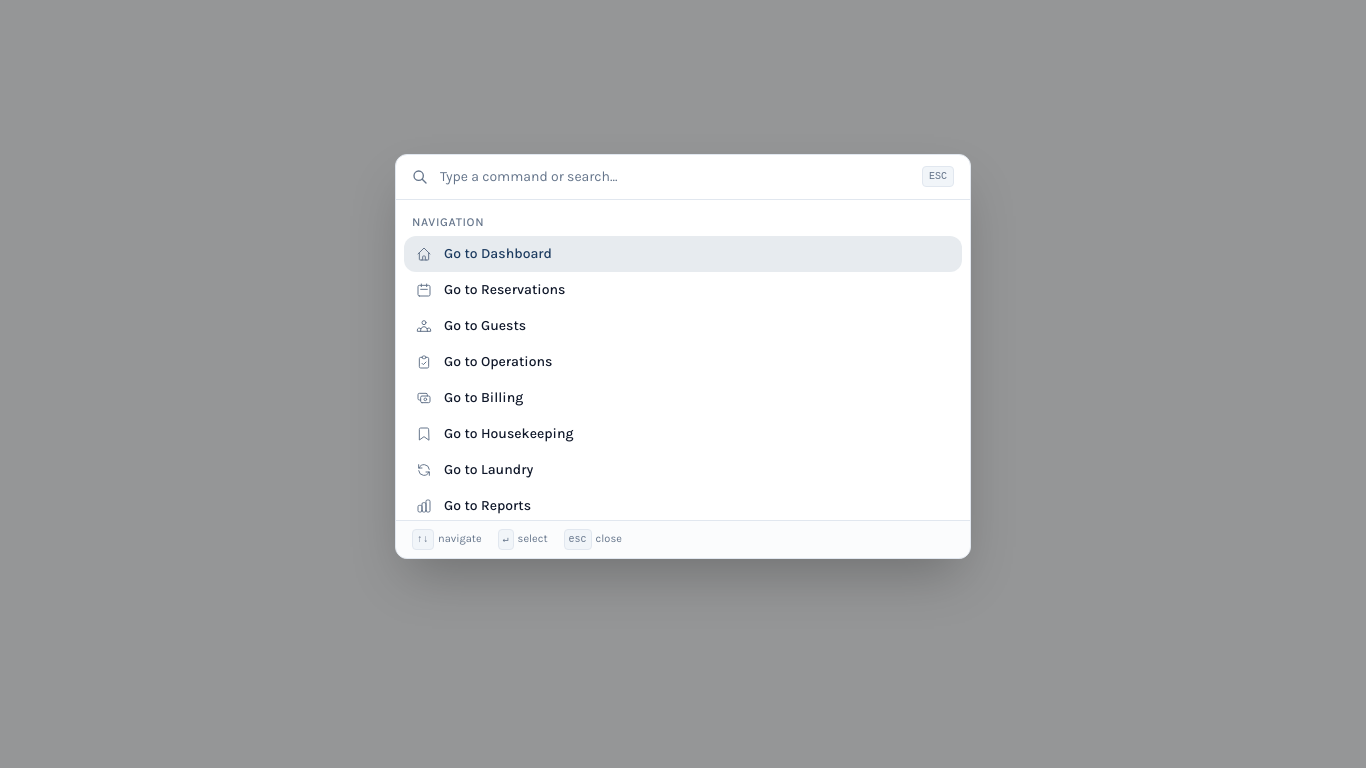
CommandPalette › filters by description text
In the field named "Search commands": [675, 177] box [440,155,910,199], type "walk-in"
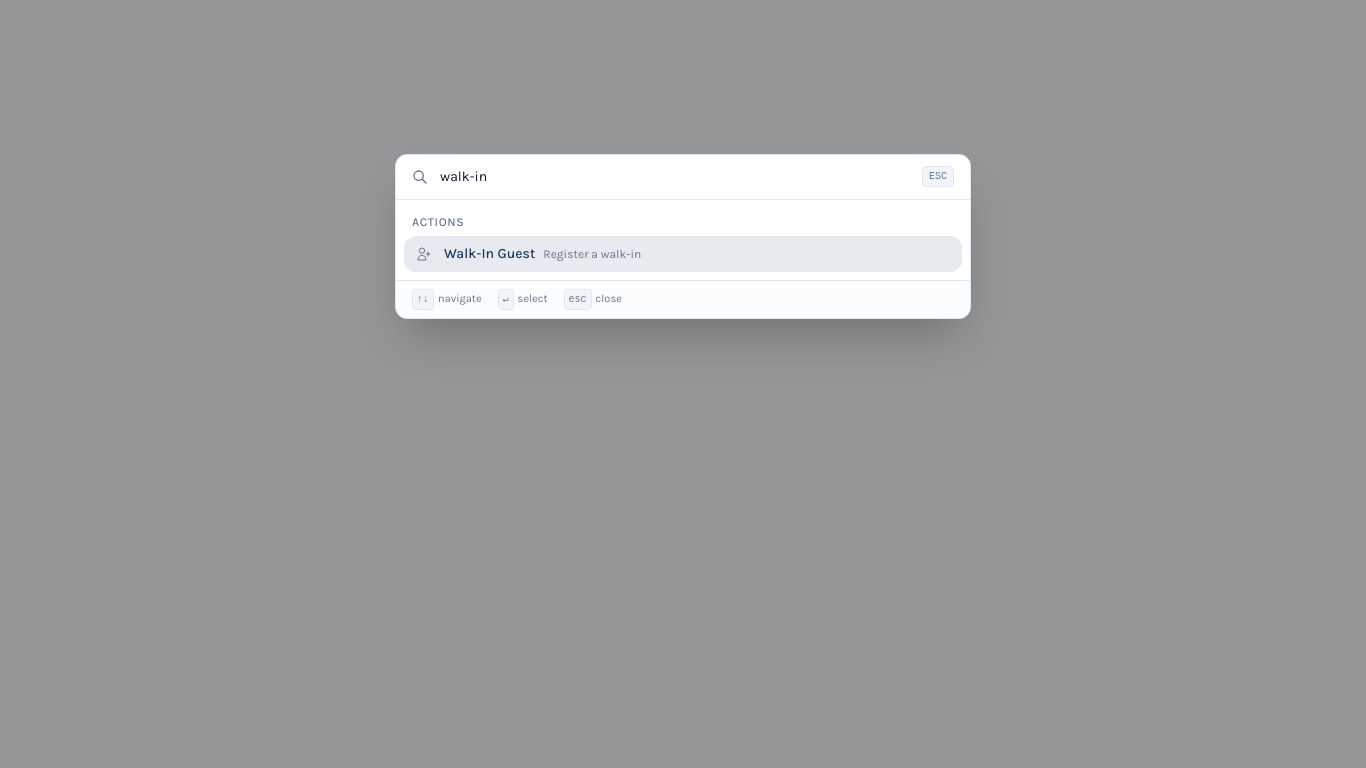
Now the text "Walk-In Guest" is shown, box [444,245,535,262]
